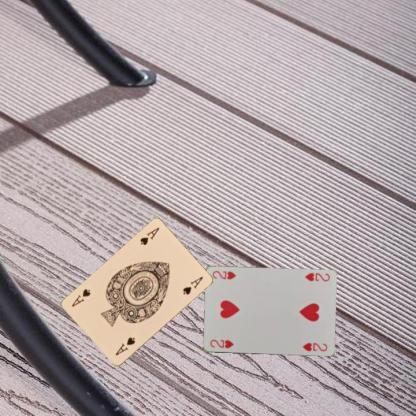2h: (208, 336, 235, 350), (302, 271, 331, 282)
As: (112, 335, 136, 358), (138, 224, 160, 247)
